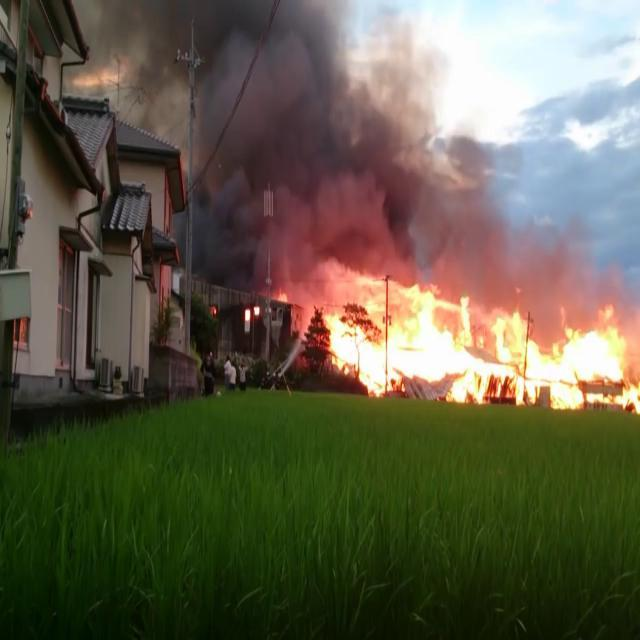Fire: (322, 283, 640, 413)
Smoke: (98, 0, 454, 263)
